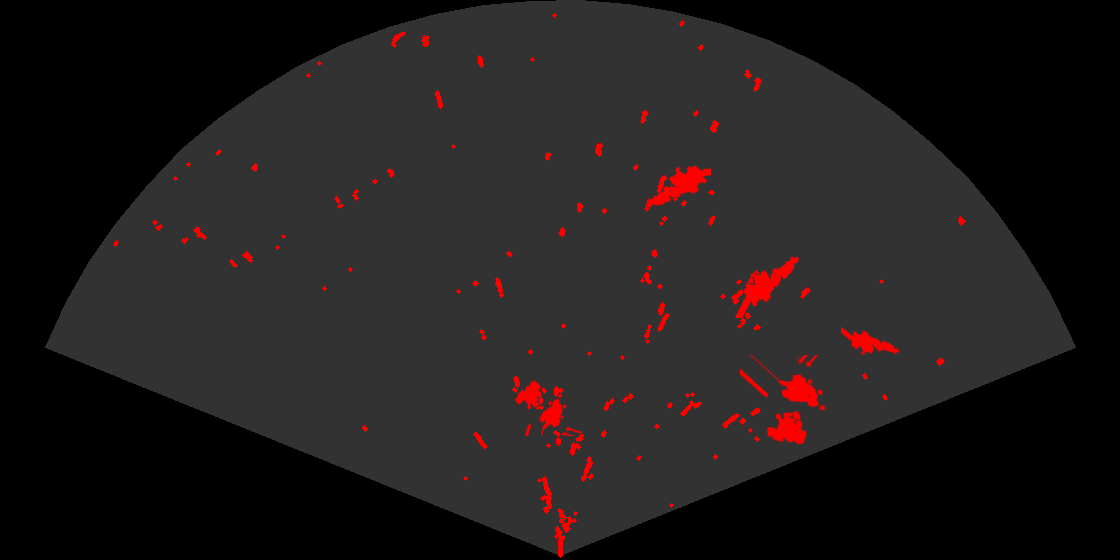cage: (740, 355, 827, 446), (513, 379, 582, 436)
frogman: (733, 255, 801, 318), (644, 164, 711, 209), (841, 325, 901, 357)
